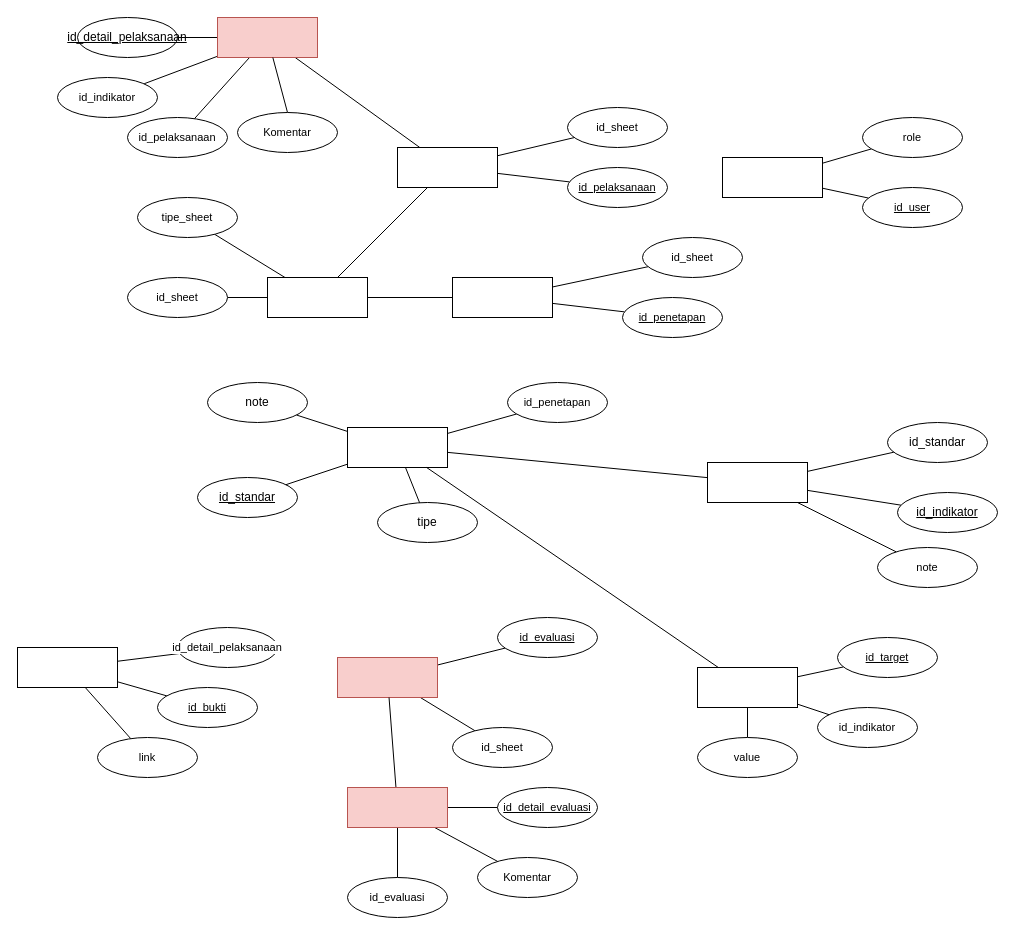
Some shapes in this 1015 by 935 pixel diagram are drawn without their labels. The box of each missing label's shape, as (x1, y1, x2, y2) in pixels:
BuktiPelaksanaan: (16, 646, 118, 688)
Detail_evaluasi: (346, 786, 448, 828)
Detail_pelaksanaan: (216, 16, 318, 58)
Evaluasi: (336, 656, 438, 698)
Indikator: (706, 462, 808, 502)
Pelaksanaan: (396, 146, 498, 188)
Penetapan: (452, 276, 552, 318)
Sheet: (266, 276, 368, 318)
Standar: (346, 426, 448, 468)
Target: (696, 666, 798, 708)
User: (722, 156, 822, 198)
